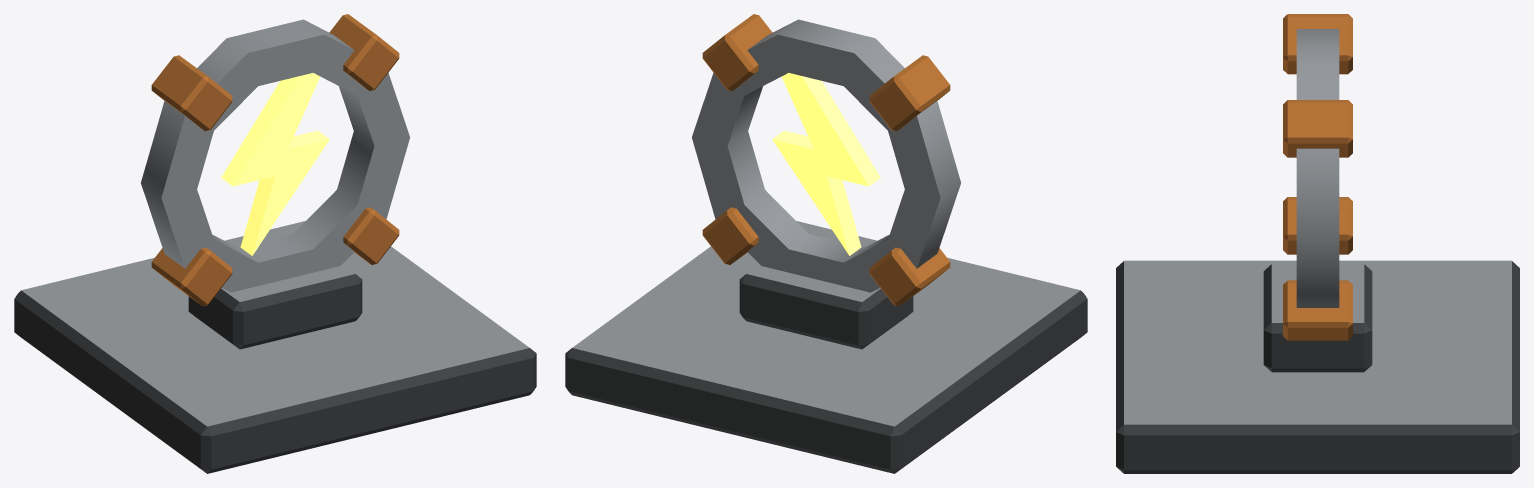
Rendered from R4X_RechargePulse_LOD1.fbx.
The picture shows the model from 3 angles, left to right: view 1: azimuth 30°, elevation 25°; view 2: azimuth 150°, elevation 25°; view 3: azimuth 270°, elevation 25°; orthographic projection. The views are drawn at different scales.
Parts seen in each view (by area): view 1: R4X_RechargePulse_LOD1; view 2: R4X_RechargePulse_LOD1; view 3: R4X_RechargePulse_LOD1.
Boxes of the visible parts, x1=… form: R4X_RechargePulse_LOD1: x1=14, y1=14, x2=536, y2=473; R4X_RechargePulse_LOD1: x1=565, y1=14, x2=1087, y2=473; R4X_RechargePulse_LOD1: x1=1116, y1=14, x2=1519, y2=473.
Bounding box in the file's own units: 0.52 × 0.4881 × 0.52.
